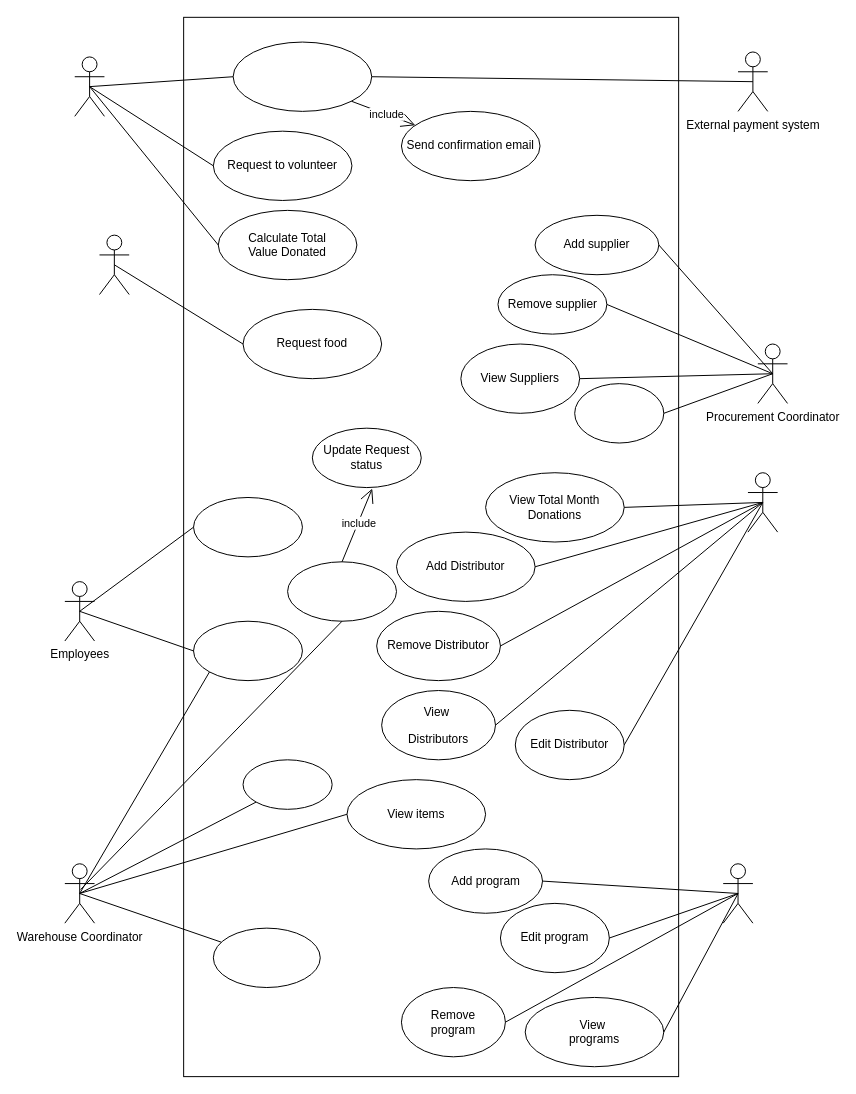
The diagram is 856 pixels wide and 1094 high, and some of its shapes have lost their labels. The centre of each missing label's shape, as x and y in pixels:
"Add item" goes at (x=247, y=650).
"Donate money" goes at (x=302, y=76).
"Donor" goes at (x=89, y=86).
"Edit item" goes at (x=266, y=957).
"Edit supplier" goes at (x=619, y=413).
"Executive director" goes at (x=762, y=502).
"Program Coordinator" goes at (x=737, y=893).
"Recipient" goes at (x=114, y=264).
"Remove item" goes at (x=287, y=784).
"Request Time off" goes at (x=247, y=526).
"Send volunteer email" goes at (x=341, y=591).
